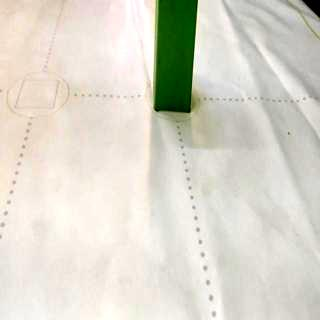greenbox: (152, 0, 198, 114)
